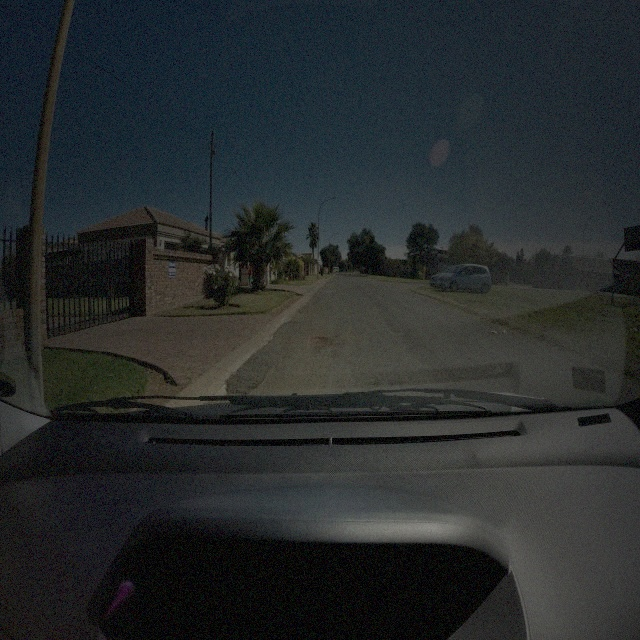pothole: (309, 334, 335, 349)
